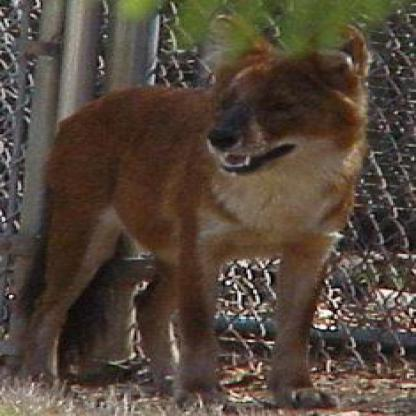dhole: (19, 11, 370, 411)
